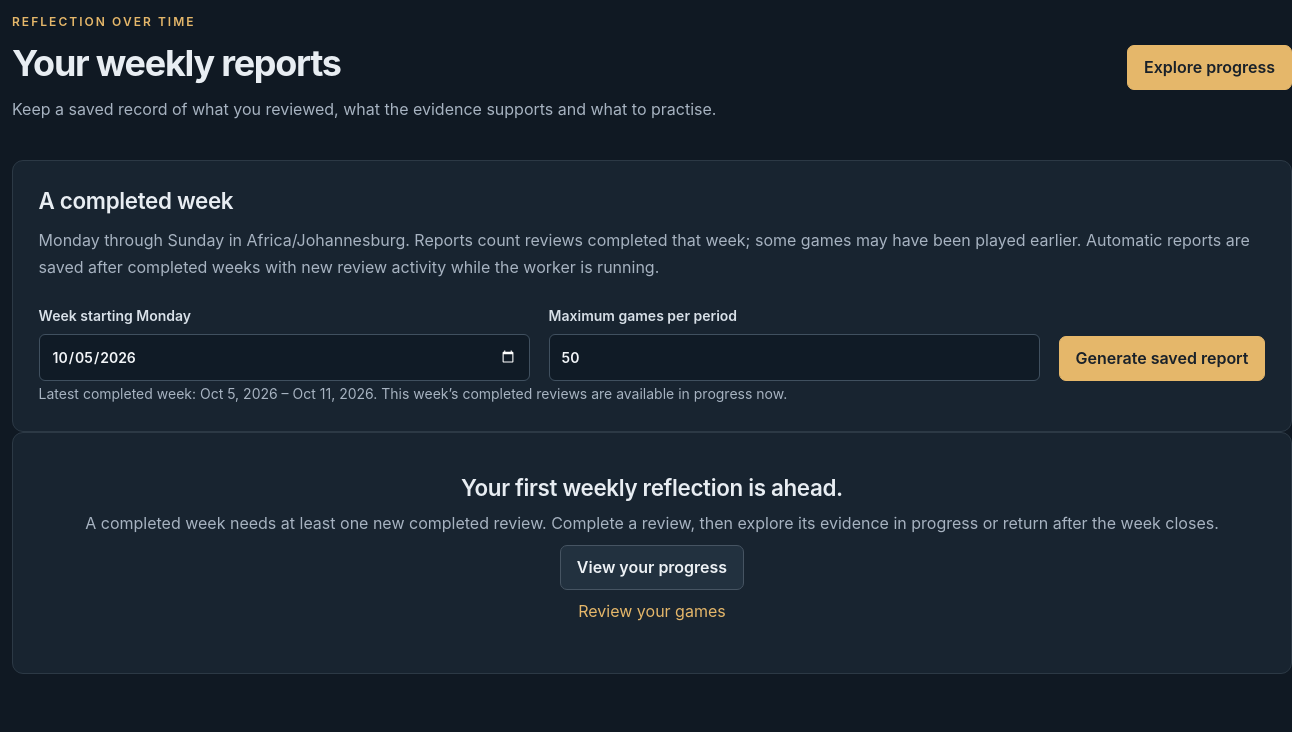
Test case: an empty completed week explains the missing activity and offers progress
Click the button "Generate saved report": (1162, 358) [1059, 336, 1265, 381]
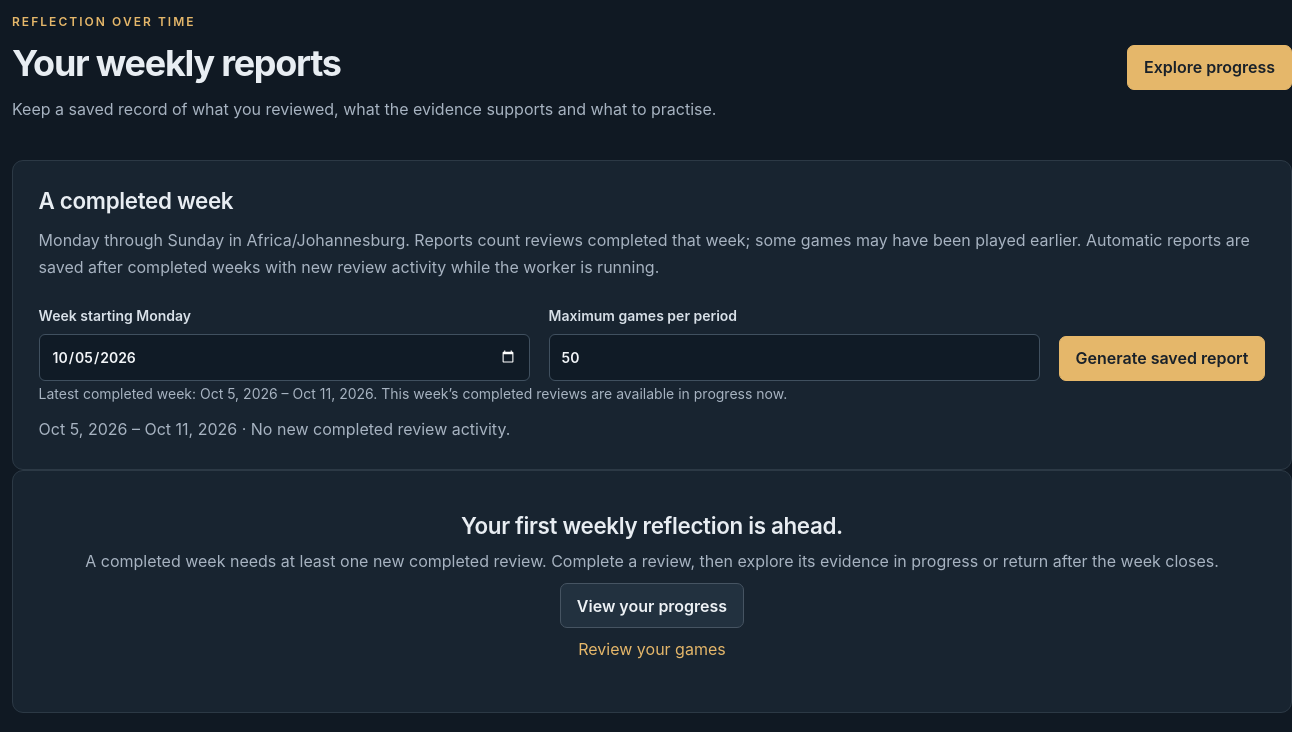
Now the message shows "No new completed review activity.", box [39, 419, 510, 439]
